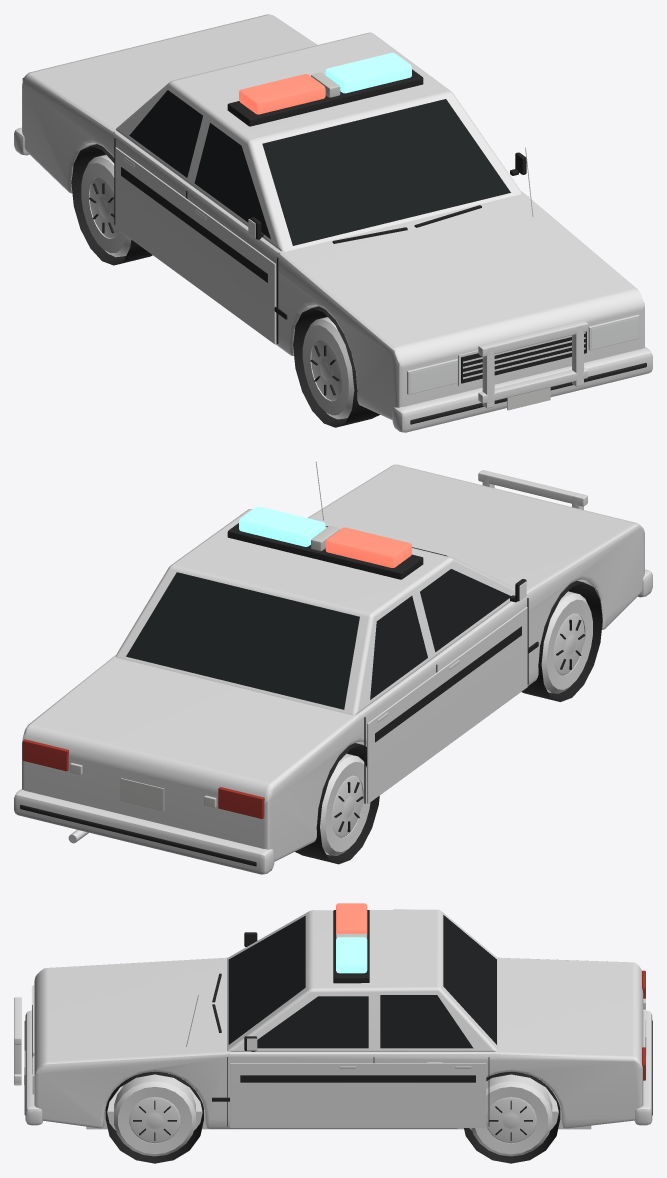
The model's file is SM_Car_Police.fbx.
3 renders of one model, top to bottom at view 1: azimuth 30°, elevation 25°; view 2: azimuth 150°, elevation 25°; view 3: azimuth 270°, elevation 25°, orthographic. The views are drawn at different scales.
Visible parts, largest first — view 1: SM_Car_Police_1; view 2: SM_Car_Police_1; view 3: SM_Car_Police_1.
Boxes of the visible parts, x1,y1,x2,y2 form: SM_Car_Police_1: (14,14,652,432); SM_Car_Police_1: (14,461,652,874); SM_Car_Police_1: (14,903,652,1163).
Size of the model in its own units: 195 by 155 by 493.
